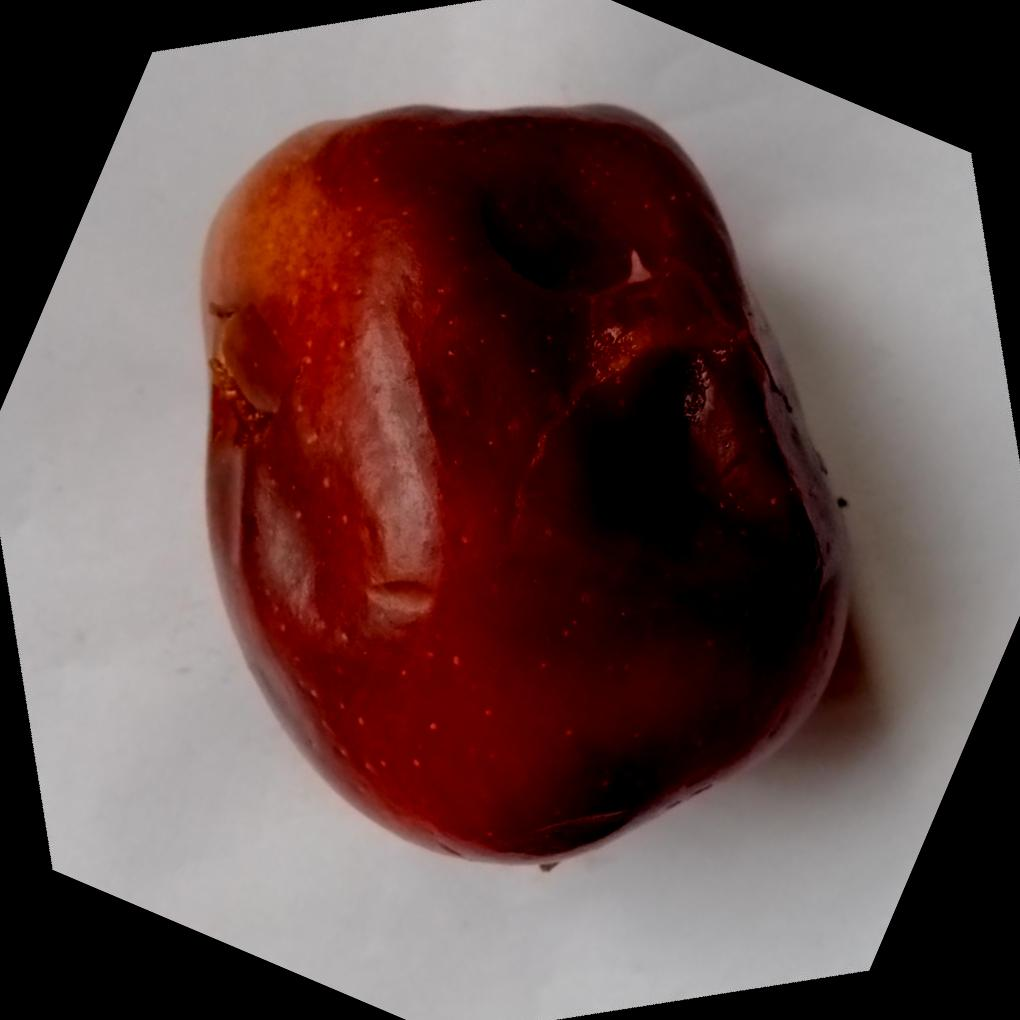FreshOrange: (199, 100, 855, 864)
